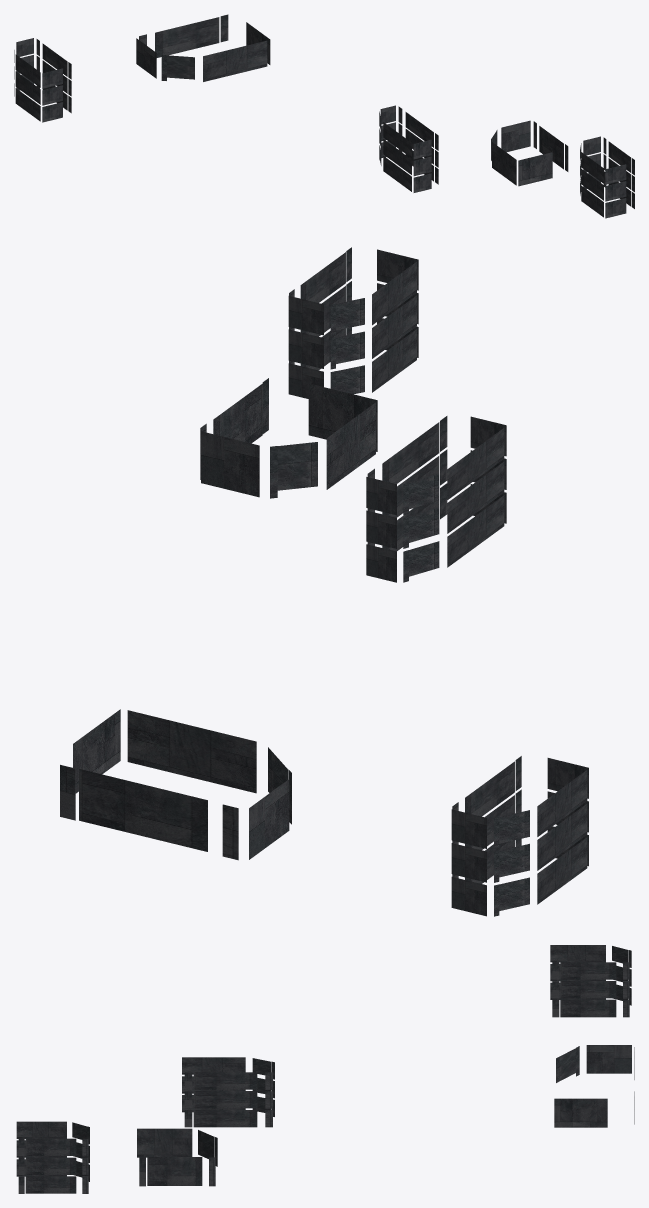
Rendered from Big_restaurant01_Wall01.fbx.
The picture shows the model from 3 angles, top to bottom: view 1: azimuth 30°, elevation 25°; view 2: azimuth 150°, elevation 25°; view 3: azimuth 270°, elevation 25°; orthographic projection. The views are drawn at different scales.
Visible parts, largest first — view 1: Big_restaurant01_Wall01; view 2: Big_restaurant01_Wall01; view 3: Big_restaurant01_Wall01.
Part boxes in pixels (left/top/right/bottom): Big_restaurant01_Wall01: left=14, top=14, right=634, bottom=218; Big_restaurant01_Wall01: left=60, top=247, right=588, bottom=916; Big_restaurant01_Wall01: left=16, top=945, right=634, bottom=1193.
Bounding box in the file's own units: 10368 × 1412 × 14037.
Materials: 1 (1 with a texture image).
